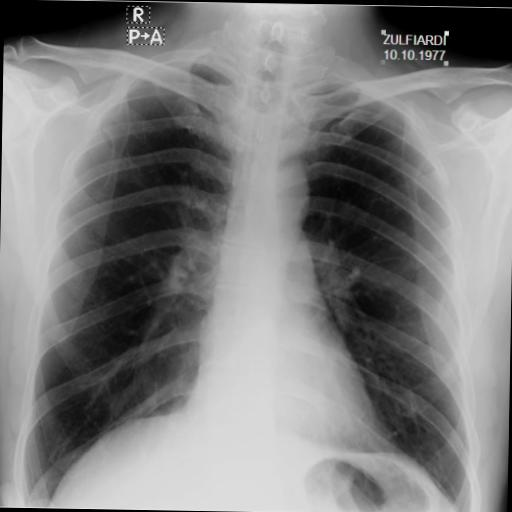normal: (8, 34, 485, 512)
